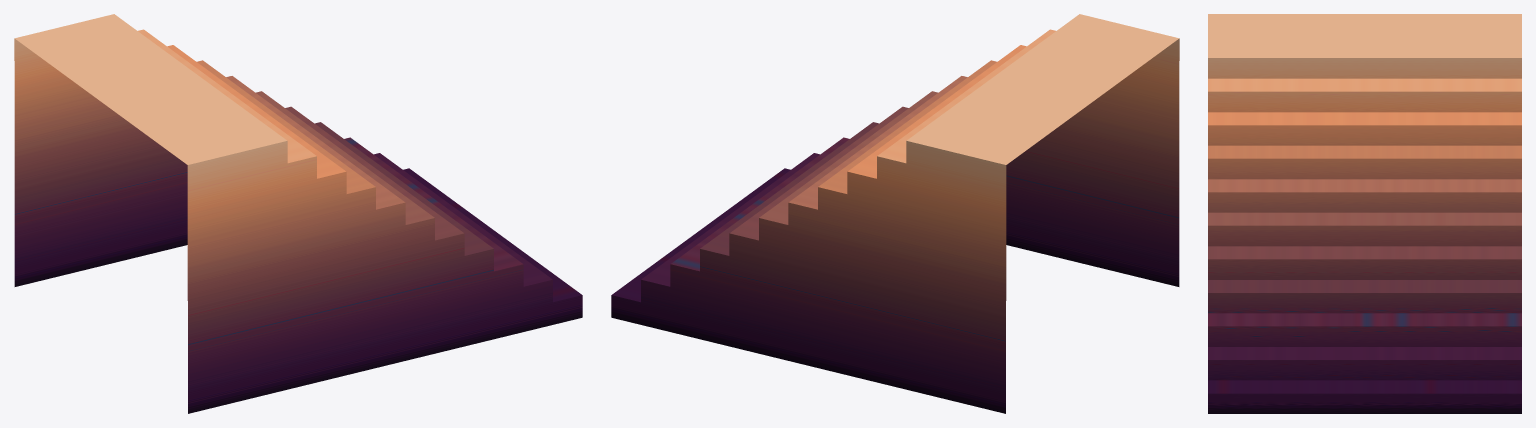
The model's file is Staris.fbx.
3 views of the same model, side by side, from view 1: azimuth 30°, elevation 25°; view 2: azimuth 150°, elevation 25°; view 3: azimuth 270°, elevation 25° (orthographic). The views are drawn at different scales.
Parts seen in each view (by area): view 1: pCube1; view 2: pCube1; view 3: pCube1.
Boxes of the visible parts, x1=… form: pCube1: x1=14, y1=14, x2=582, y2=413; pCube1: x1=611, y1=14, x2=1179, y2=413; pCube1: x1=1208, y1=14, x2=1521, y2=413.
Size of the model in its own units: 26.77 by 16.13 by 20.34.
Materials: 1 (1 with a texture image).
